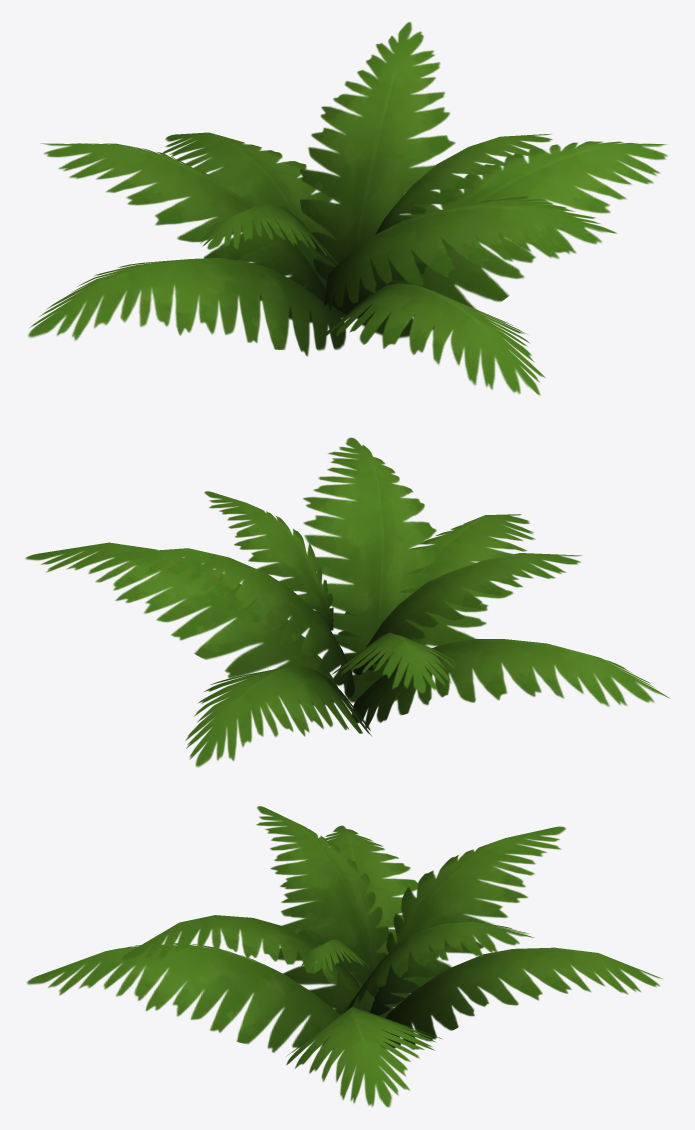
The model's file is fern.glb.
The picture shows the model from 3 angles, top to bottom: view 1: azimuth 30°, elevation 25°; view 2: azimuth 150°, elevation 25°; view 3: azimuth 270°, elevation 25°; orthographic projection. The views are drawn at different scales.
Visible parts, largest first — view 1: Fern_1; view 2: Fern_1; view 3: Fern_1.
Part boxes in pixels (x1,y1,x2,y2): Fern_1: (27, 22, 667, 395); Fern_1: (25, 437, 669, 767); Fern_1: (26, 806, 662, 1107).
Size of the model in its own units: 9.05 by 2.69 by 8.49.
Materials: 1 (1 with a texture image).
